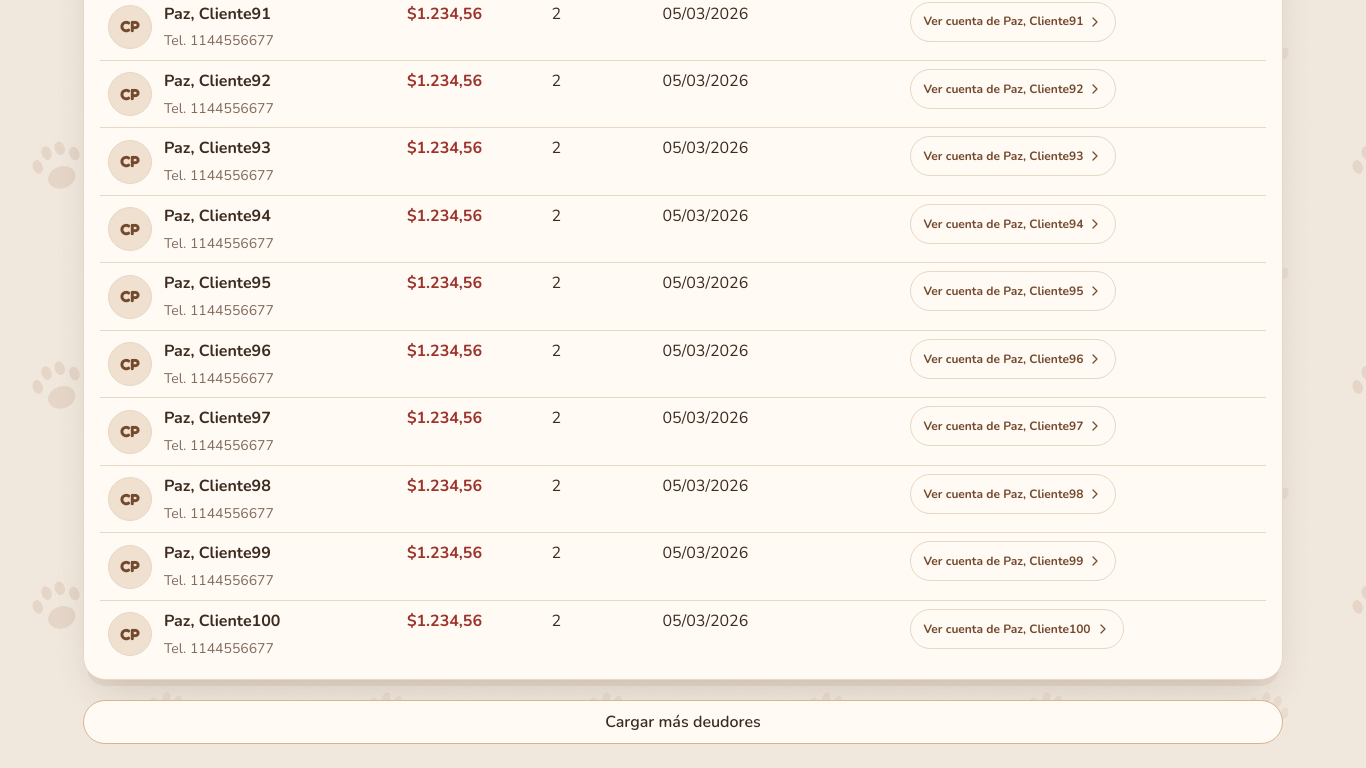
Test case: Deudores › carga de forma paginada los deudores posteriores al límite del backend
The width and height of the screenshot is (1366, 768).
(page scrolled)
What coordinates should you click on to do the following:
click the button "Cargar más deudores"
I would click on:
 (683, 722)
Its box is [83,700,1283,744].
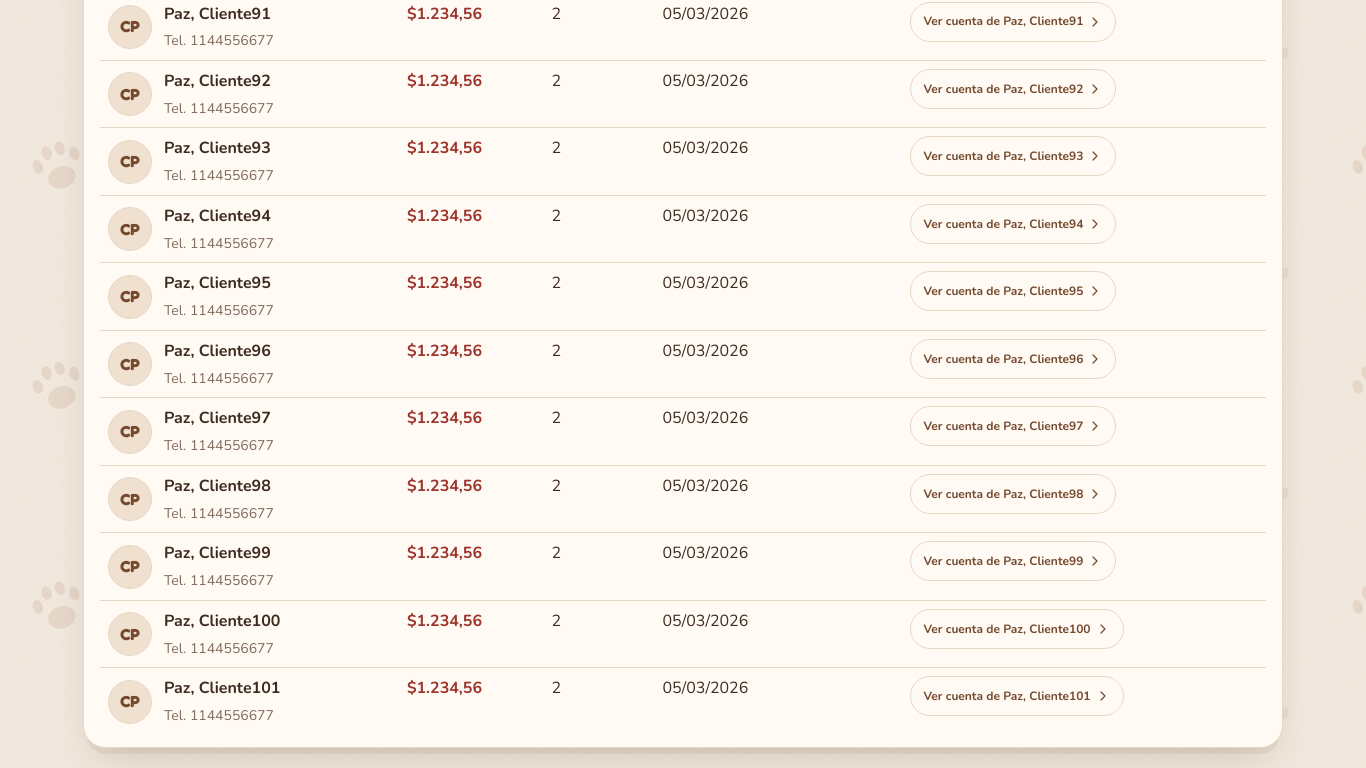
Now the text "Paz, Cliente101" is shown, box [164,676,280,701]
Now the button "Cargar más deudores" is gone
